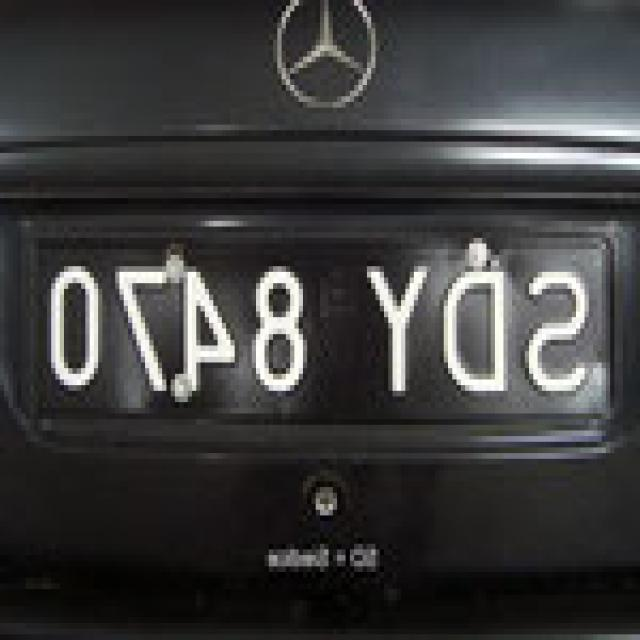pl_license_plate: (38, 238, 614, 402)
